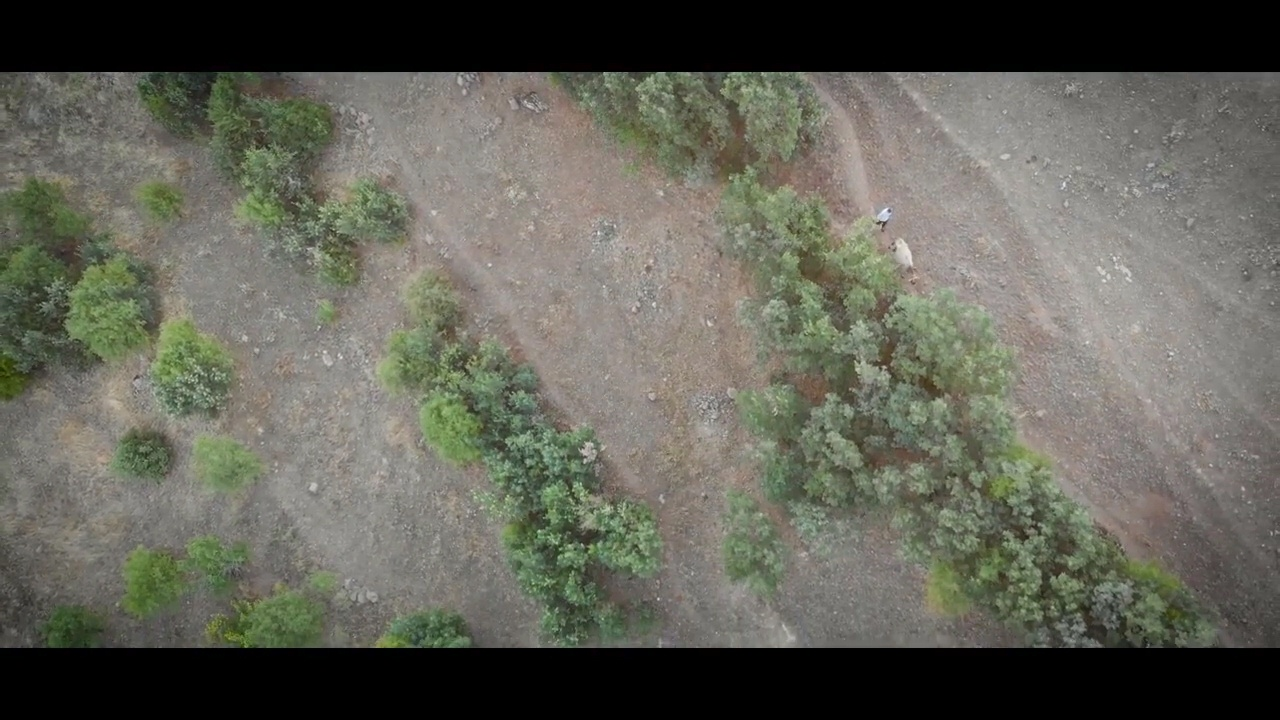insan: (871, 203, 898, 231)
